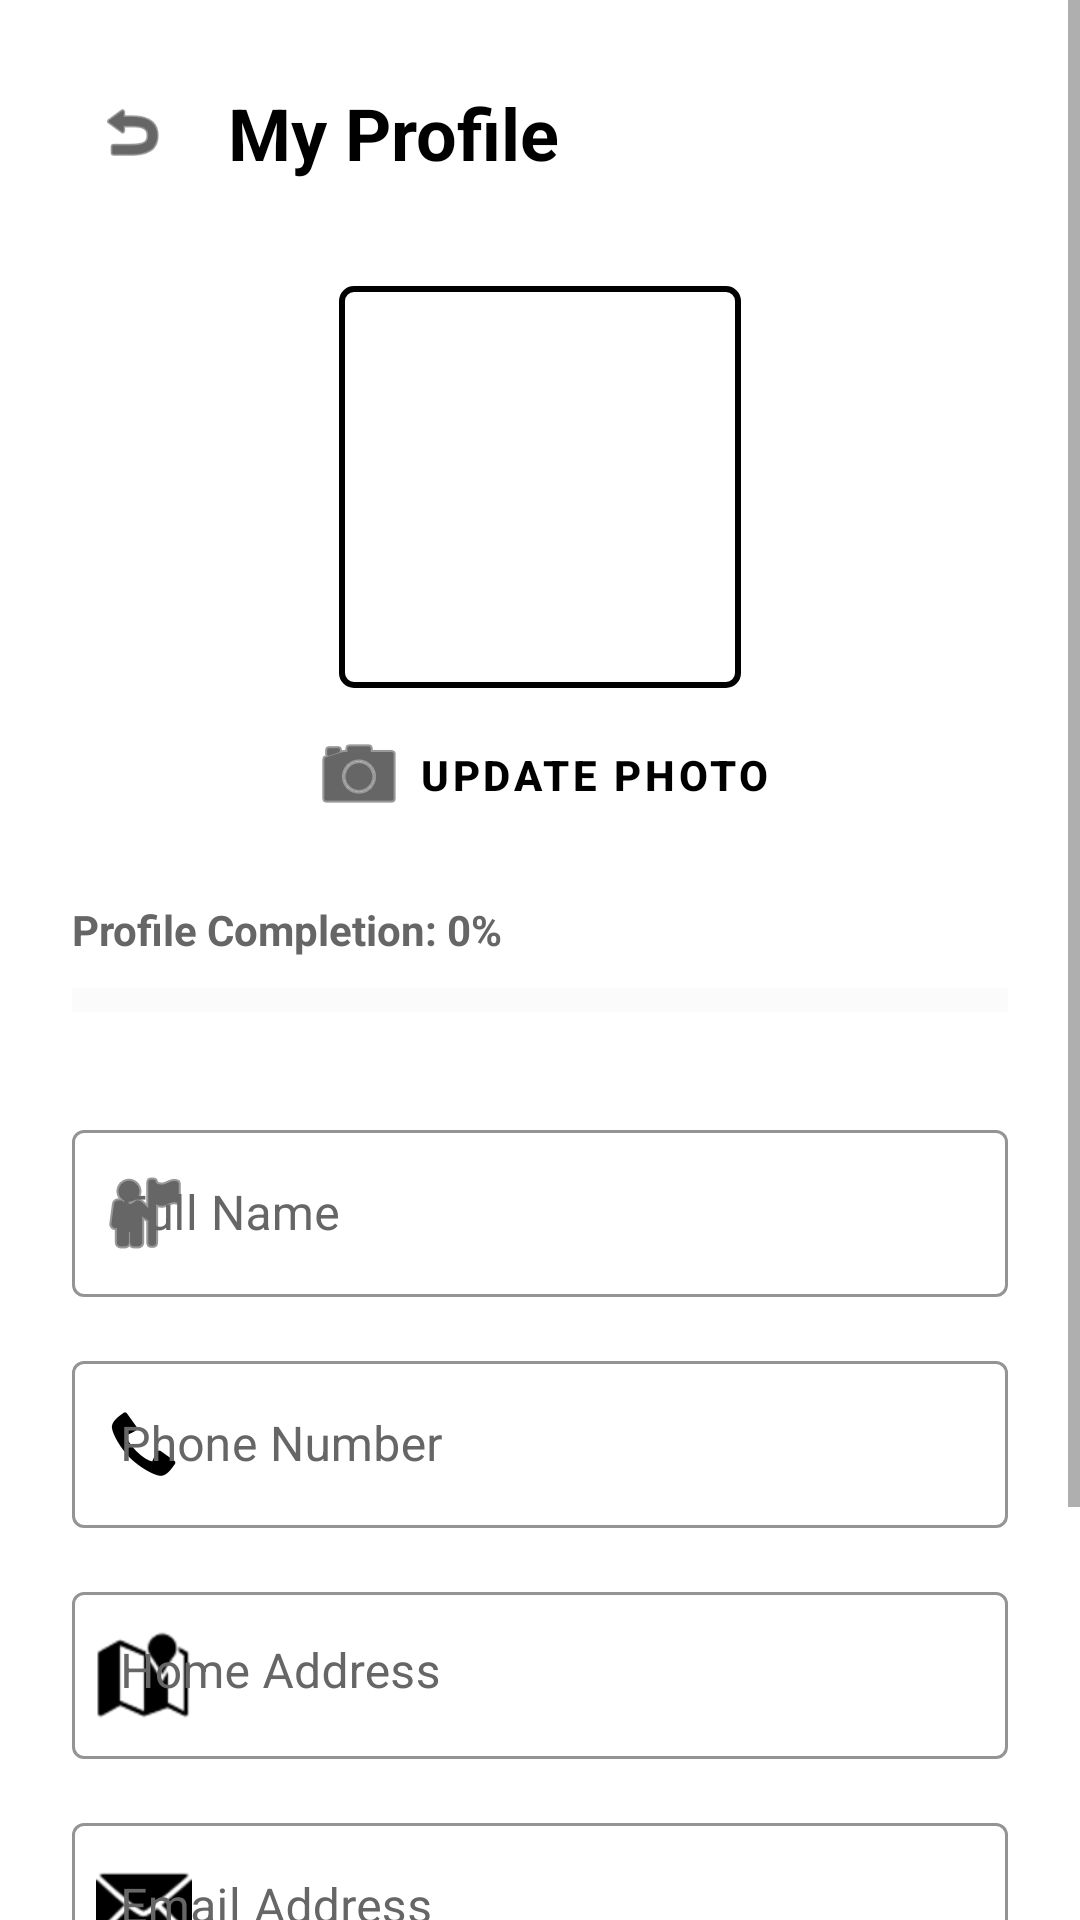

Where to tap for icons on this 1080px x 1920px app screen, as (x,y):
Back: (133,132)
